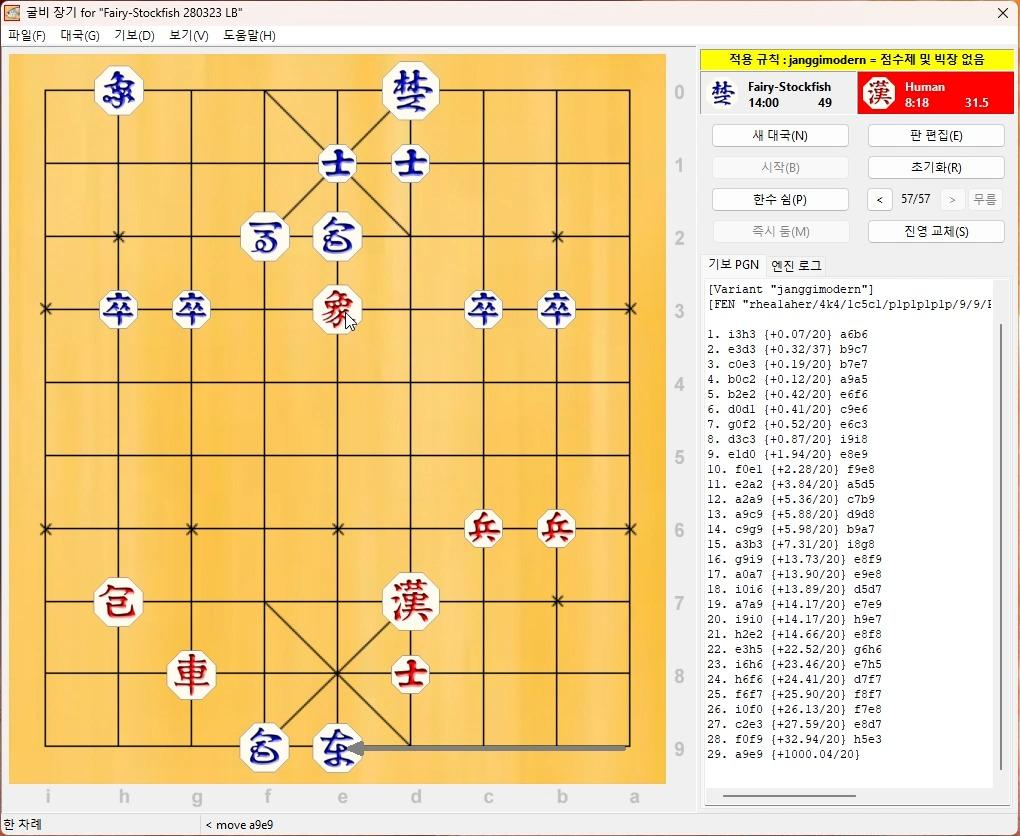cha_green: (314, 726, 364, 772)
cha_red: (168, 654, 218, 699)
jol_green: (172, 292, 211, 329), (537, 293, 576, 329), (466, 293, 504, 329), (98, 293, 136, 328)
jol_red: (538, 509, 577, 551), (462, 510, 505, 546)
ma_green: (240, 212, 292, 263)
po_green: (237, 725, 289, 769), (315, 214, 363, 260)
po_red: (95, 577, 144, 622)
sa_green: (319, 145, 359, 184), (392, 144, 431, 183)
sa_red: (391, 658, 430, 693)
sang_green: (95, 69, 144, 114)
sang_red: (314, 285, 364, 330)
wang_green: (382, 64, 439, 117)
wang_red: (383, 572, 443, 632)
